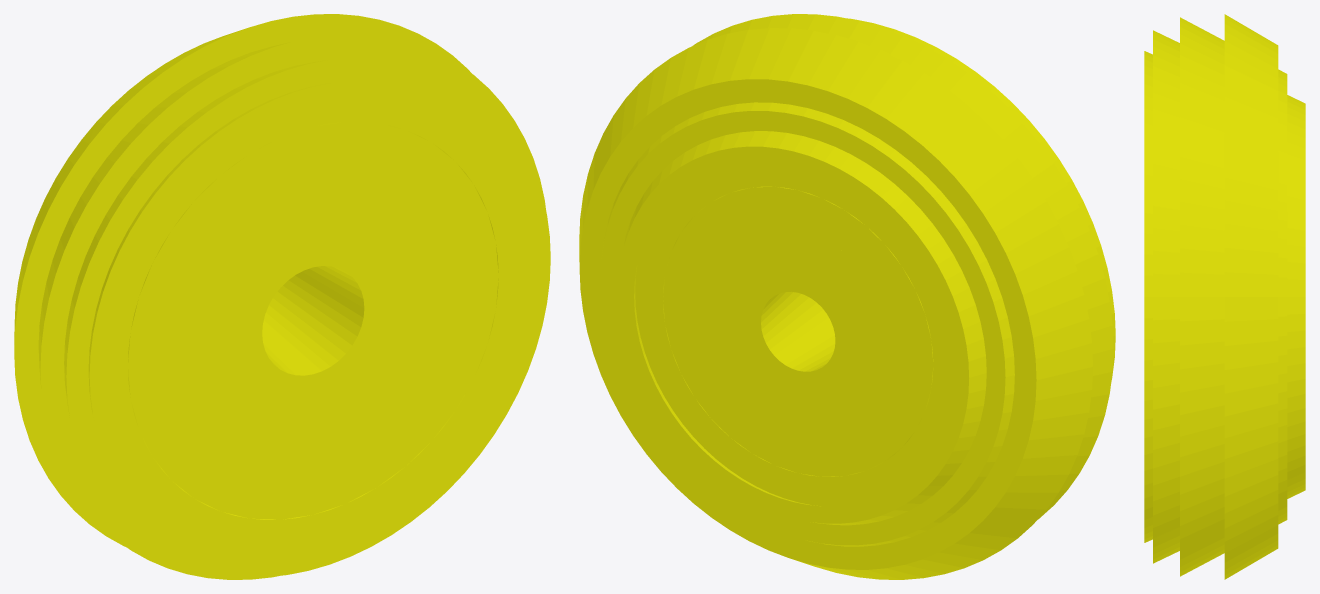
File: HcalEndcapPlus3D_V1.glb
3 views of the same model, side by side, from view 1: azimuth 30°, elevation 25°; view 2: azimuth 150°, elevation 25°; view 3: azimuth 270°, elevation 25° (orthographic). The views are drawn at different scales.
Parts seen in each view (by area): view 1: HcalEndcapPlus3D_V1; view 2: HcalEndcapPlus3D_V1; view 3: HcalEndcapPlus3D_V1.
Part boxes in pixels (x1=…): HcalEndcapPlus3D_V1: x1=14, y1=14, x2=550, y2=579; HcalEndcapPlus3D_V1: x1=579, y1=14, x2=1115, y2=579; HcalEndcapPlus3D_V1: x1=1144, y1=14, x2=1305, y2=579.
Bounding box in the file's own units: 5.51 × 5.51 × 1.57.
